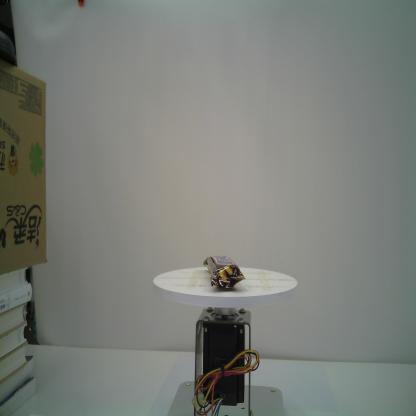Chocolate: (203, 256, 246, 288)
